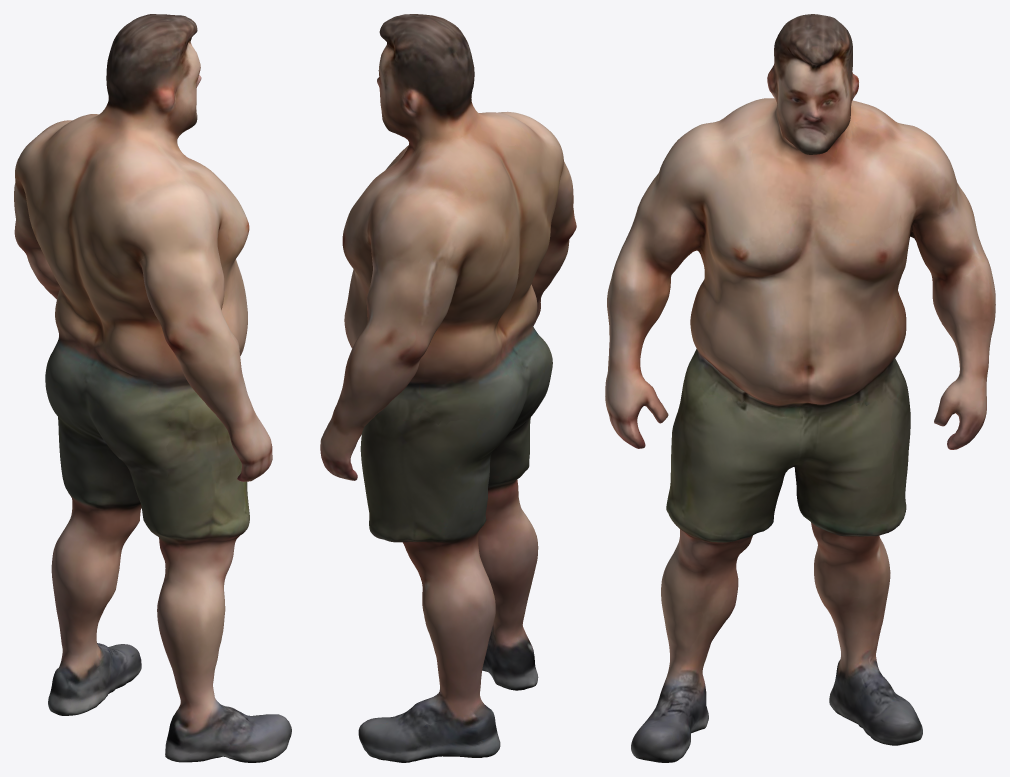
The model's file is a_realisitc_full_body_man_wearing_no_shirt_but_grey_shorts_he_also_has_olive_green_eyes_and_is_sl_draft.glb.
3 renders of one model, left to right at view 1: azimuth 30°, elevation 25°; view 2: azimuth 150°, elevation 25°; view 3: azimuth 270°, elevation 25°, orthographic. The views are drawn at different scales.
Parts seen in each view (by area): view 1: geometry_0; view 2: geometry_0; view 3: geometry_0.
Boxes of the visible parts, x1,y1,x2,y2 form: geometry_0: [14, 14, 291, 762]; geometry_0: [320, 14, 576, 762]; geometry_0: [605, 14, 995, 762].
Bounding box in the file's own units: 0.2635 × 1.01 × 0.4926.
1 material, 1 textured.
